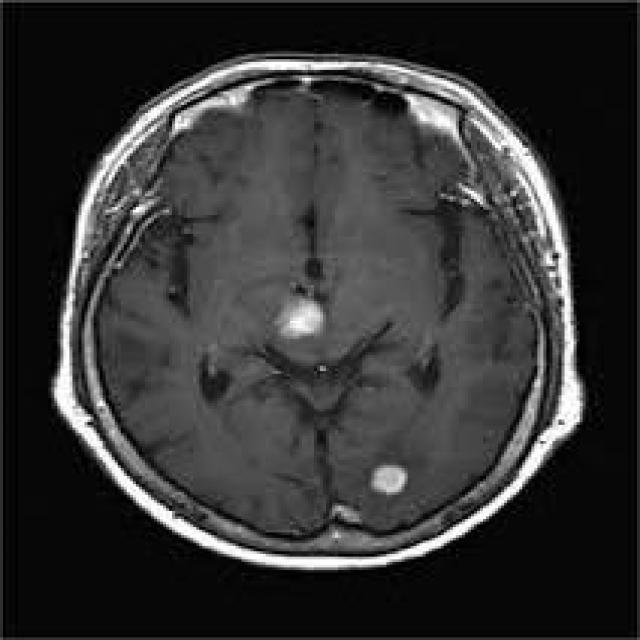notumor: (51, 54, 586, 575)
